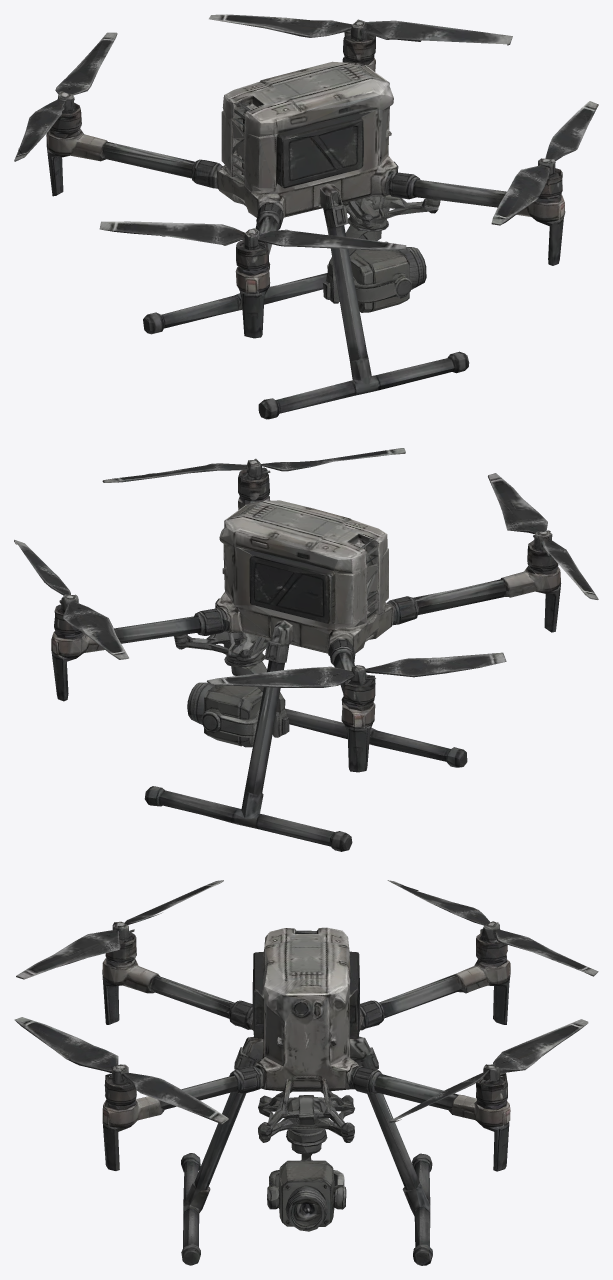
File: patrol_drone.glb
3 renders of one model, top to bottom at view 1: azimuth 30°, elevation 25°; view 2: azimuth 150°, elevation 25°; view 3: azimuth 270°, elevation 25°, orthographic.
Bounding box in the file's own units: 1.88 × 0.9573 × 1.9.
1 material, 1 textured.
